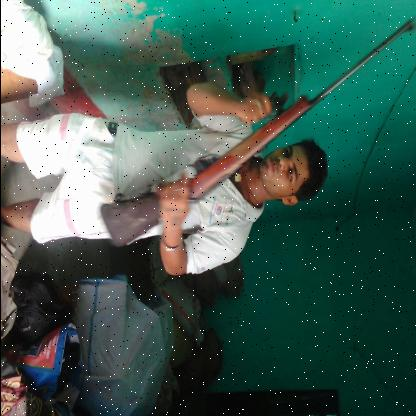rifle: (96, 16, 416, 252)
